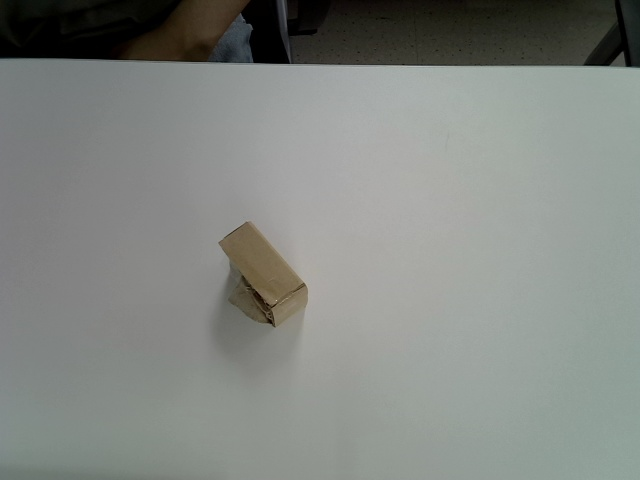defect: (218, 220, 310, 329)
